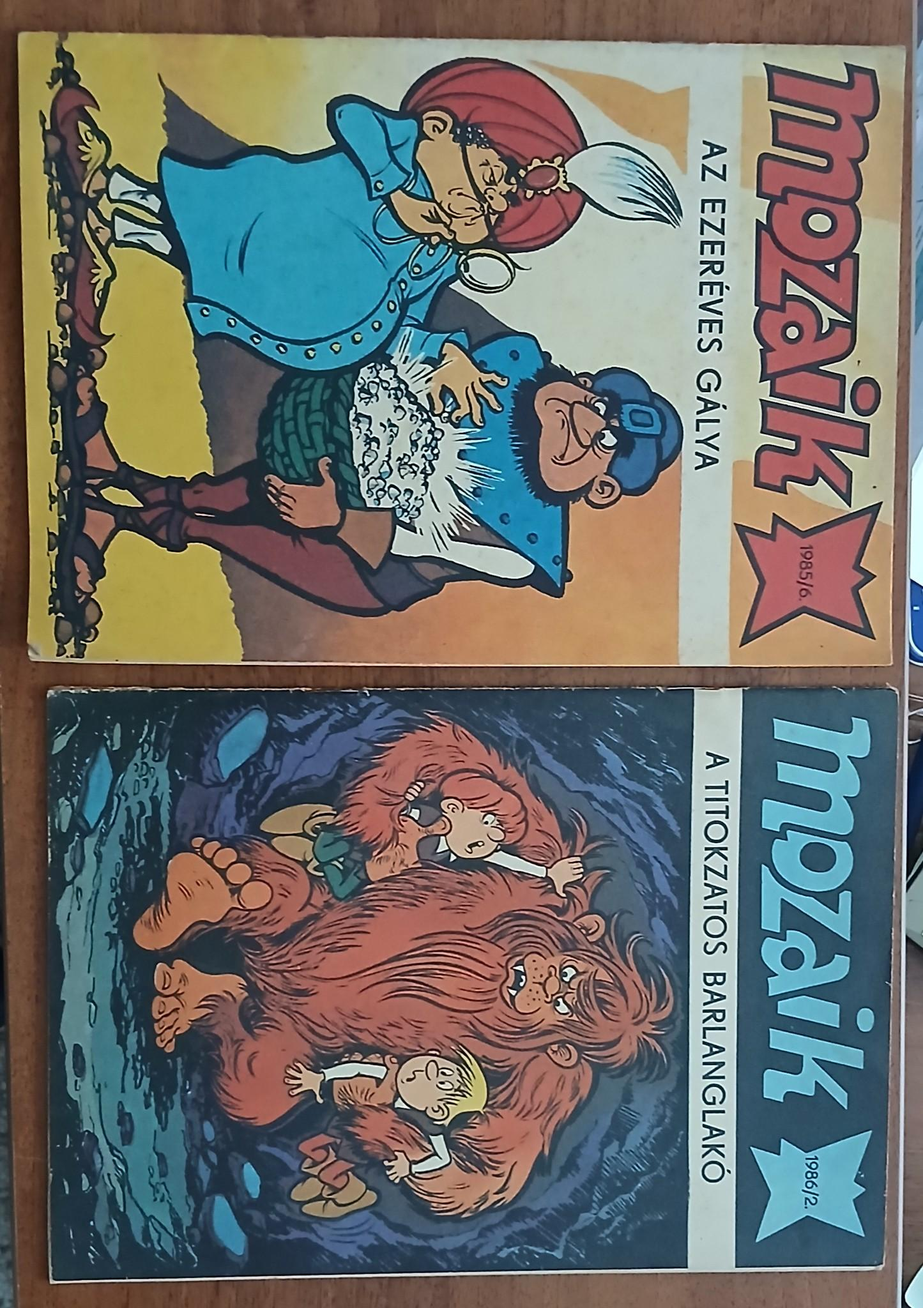comic: (14, 33, 902, 669), (48, 688, 899, 1280)
